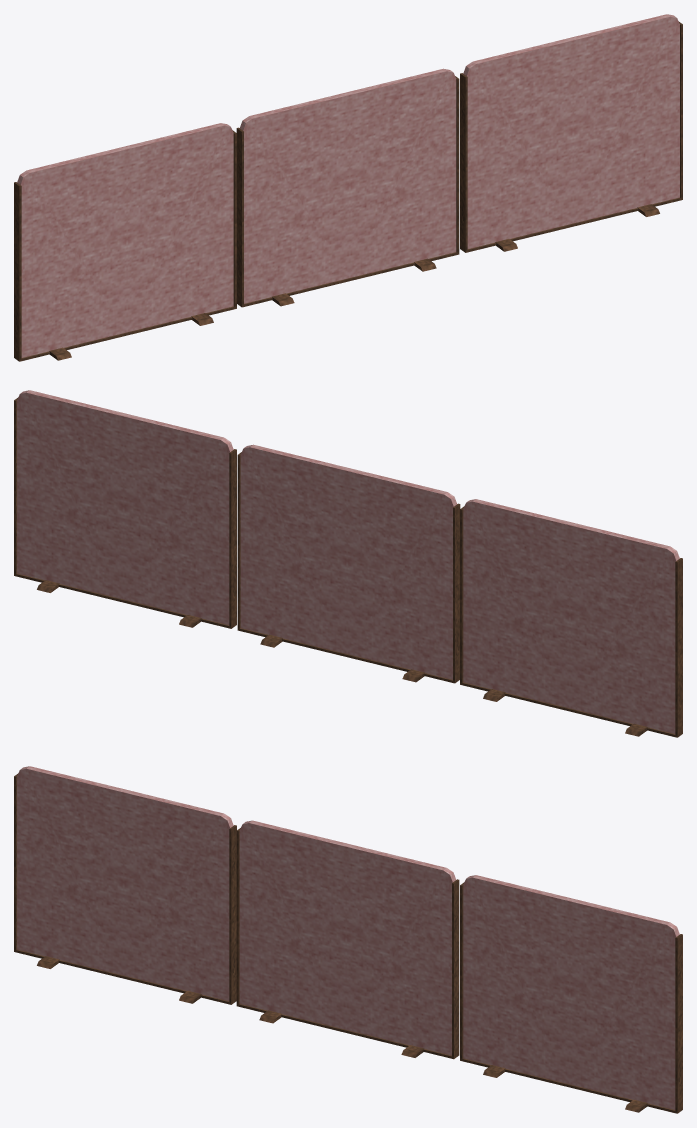
Rendered from dividers.fbx.
3 views of the same model, one above another, from view 1: azimuth 30°, elevation 25°; view 2: azimuth 150°, elevation 25°; view 3: azimuth 330°, elevation 25° (orthographic).
Parts seen in each view (by area): view 1: divider_wood_red1, divider_wood_red2, divider_wood_red; view 2: divider_wood_red1, divider_wood_red2, divider_wood_red; view 3: divider_wood_red1, divider_wood_red, divider_wood_red2.
Boxes of the visible parts, x1=… form: divider_wood_red1: x1=236, y1=68, x2=459, y2=307; divider_wood_red2: x1=14, y1=123, x2=236, y2=361; divider_wood_red: x1=460, y1=14, x2=682, y2=252; divider_wood_red1: x1=237, y1=444, x2=460, y2=683; divider_wood_red2: x1=460, y1=499, x2=682, y2=737; divider_wood_red: x1=14, y1=390, x2=236, y2=628; divider_wood_red1: x1=236, y1=820, x2=459, y2=1059; divider_wood_red: x1=460, y1=875, x2=682, y2=1113; divider_wood_red2: x1=14, y1=766, x2=236, y2=1004.
Bounding box in the file's own units: 934 × 250 × 52.3.
